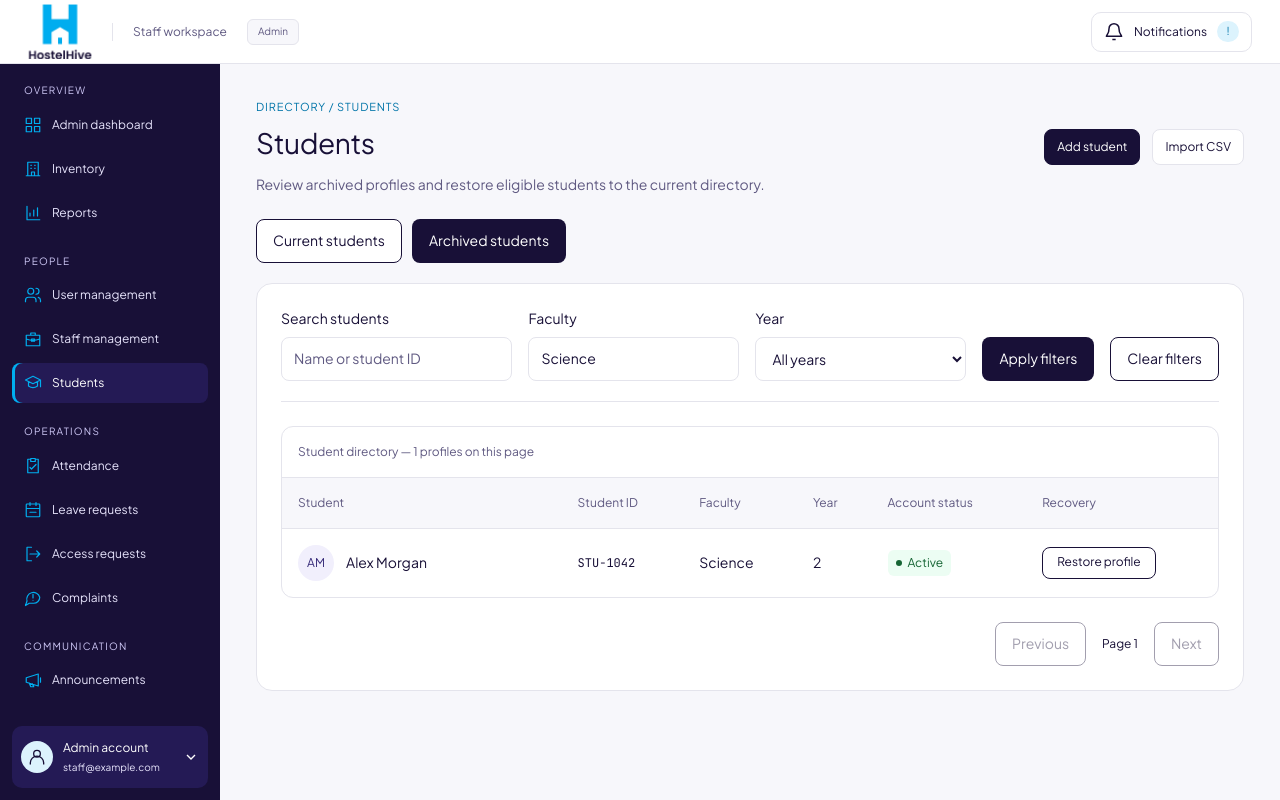
it: archived student restoration › shows unassigned accommodation after confirmed restoration
Click the button with aria-label "Restore Alex Morgan". click: (1099, 563)
box: x1=1042 y1=547 x2=1156 y2=579
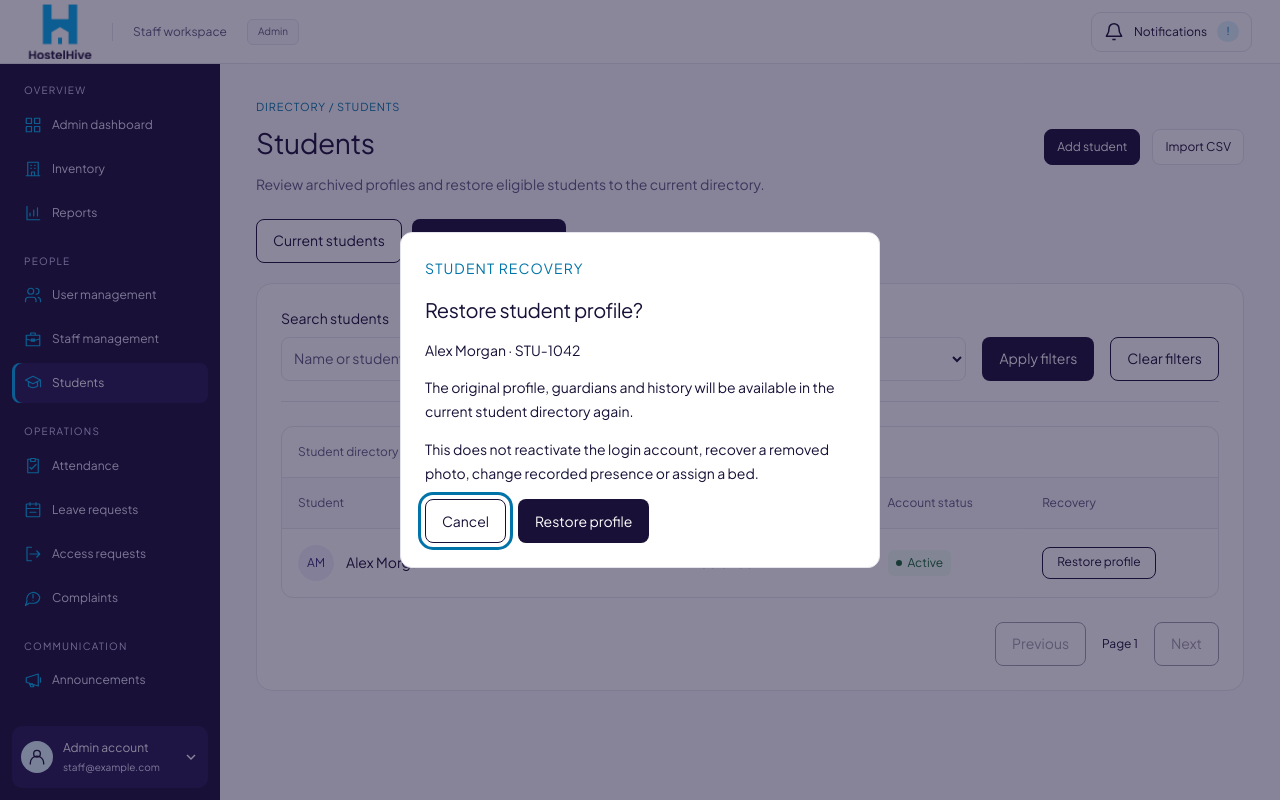
Click the button "Restore profile". click: (584, 522)
box: x1=518 y1=500 x2=649 y2=544
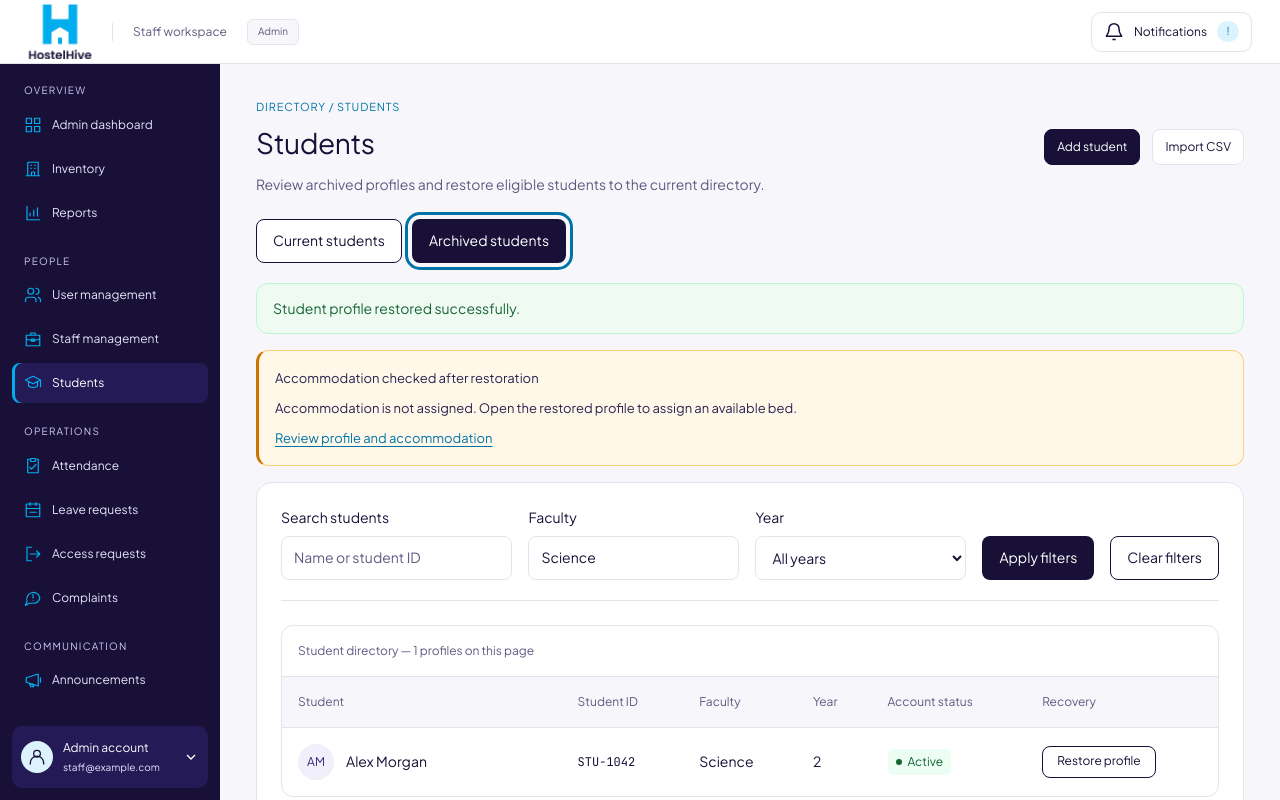
Check: the text "Student profile restored successfully." is shown, box x1=256 y1=283 x2=1244 y2=334
Check: the text "Accommodation is not assigned" is shown, box x1=275 y1=400 x2=797 y2=416
